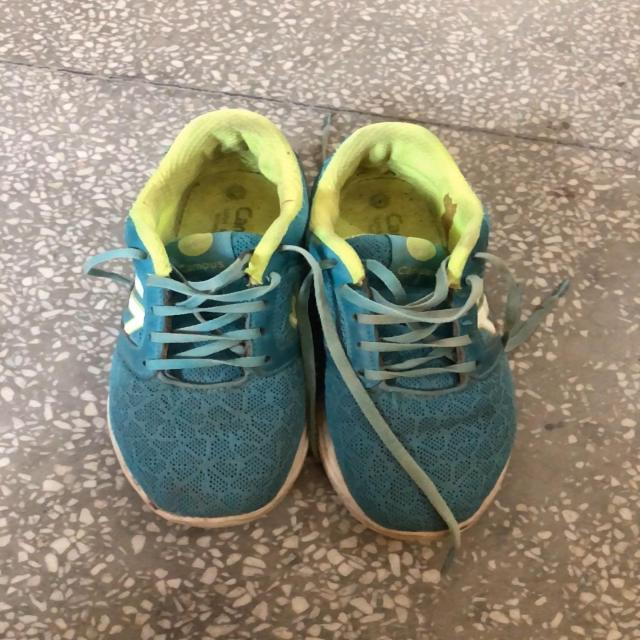shoe: (84, 109, 312, 533), (301, 122, 517, 540)
